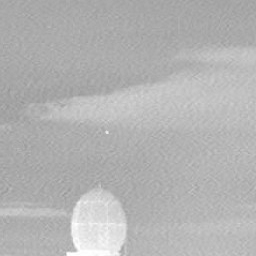Target: (102, 128, 111, 135)
